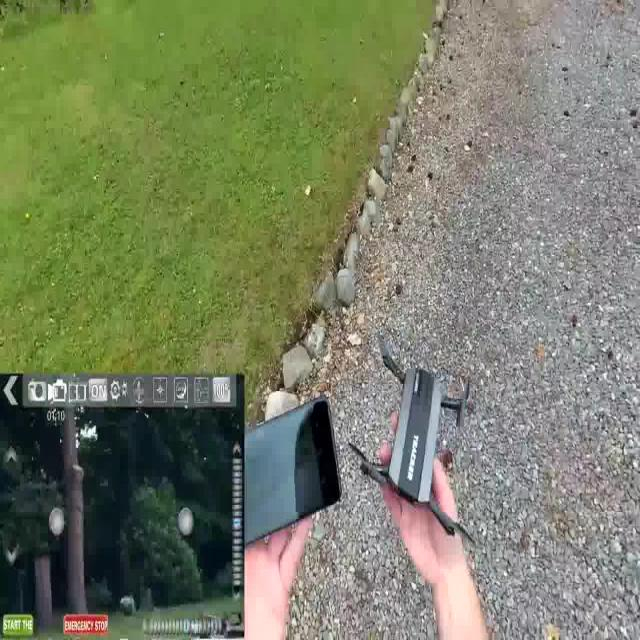drones: (345, 313, 491, 560)
